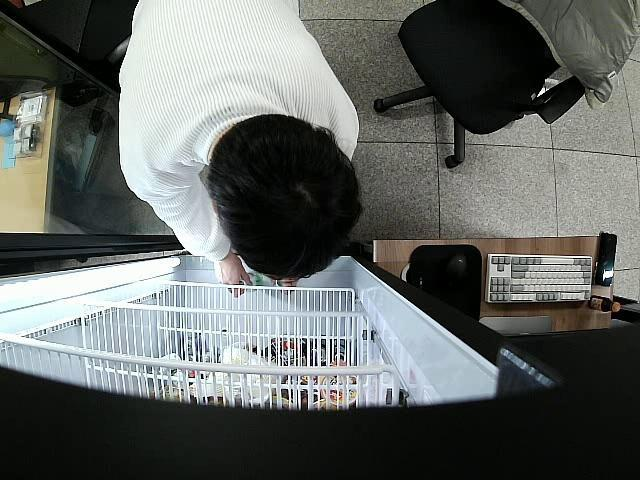18_trevi: (232, 272, 263, 298)
